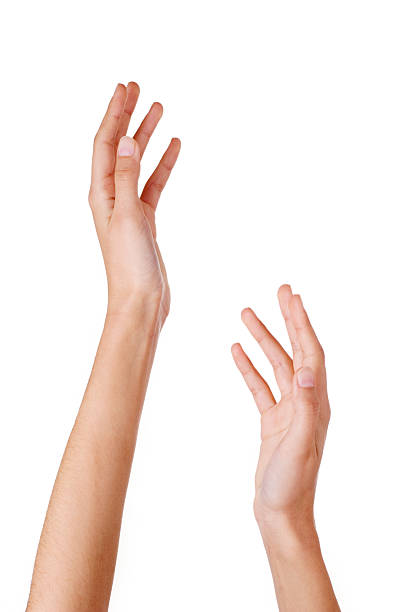non-diseased: (89, 83, 199, 331)
